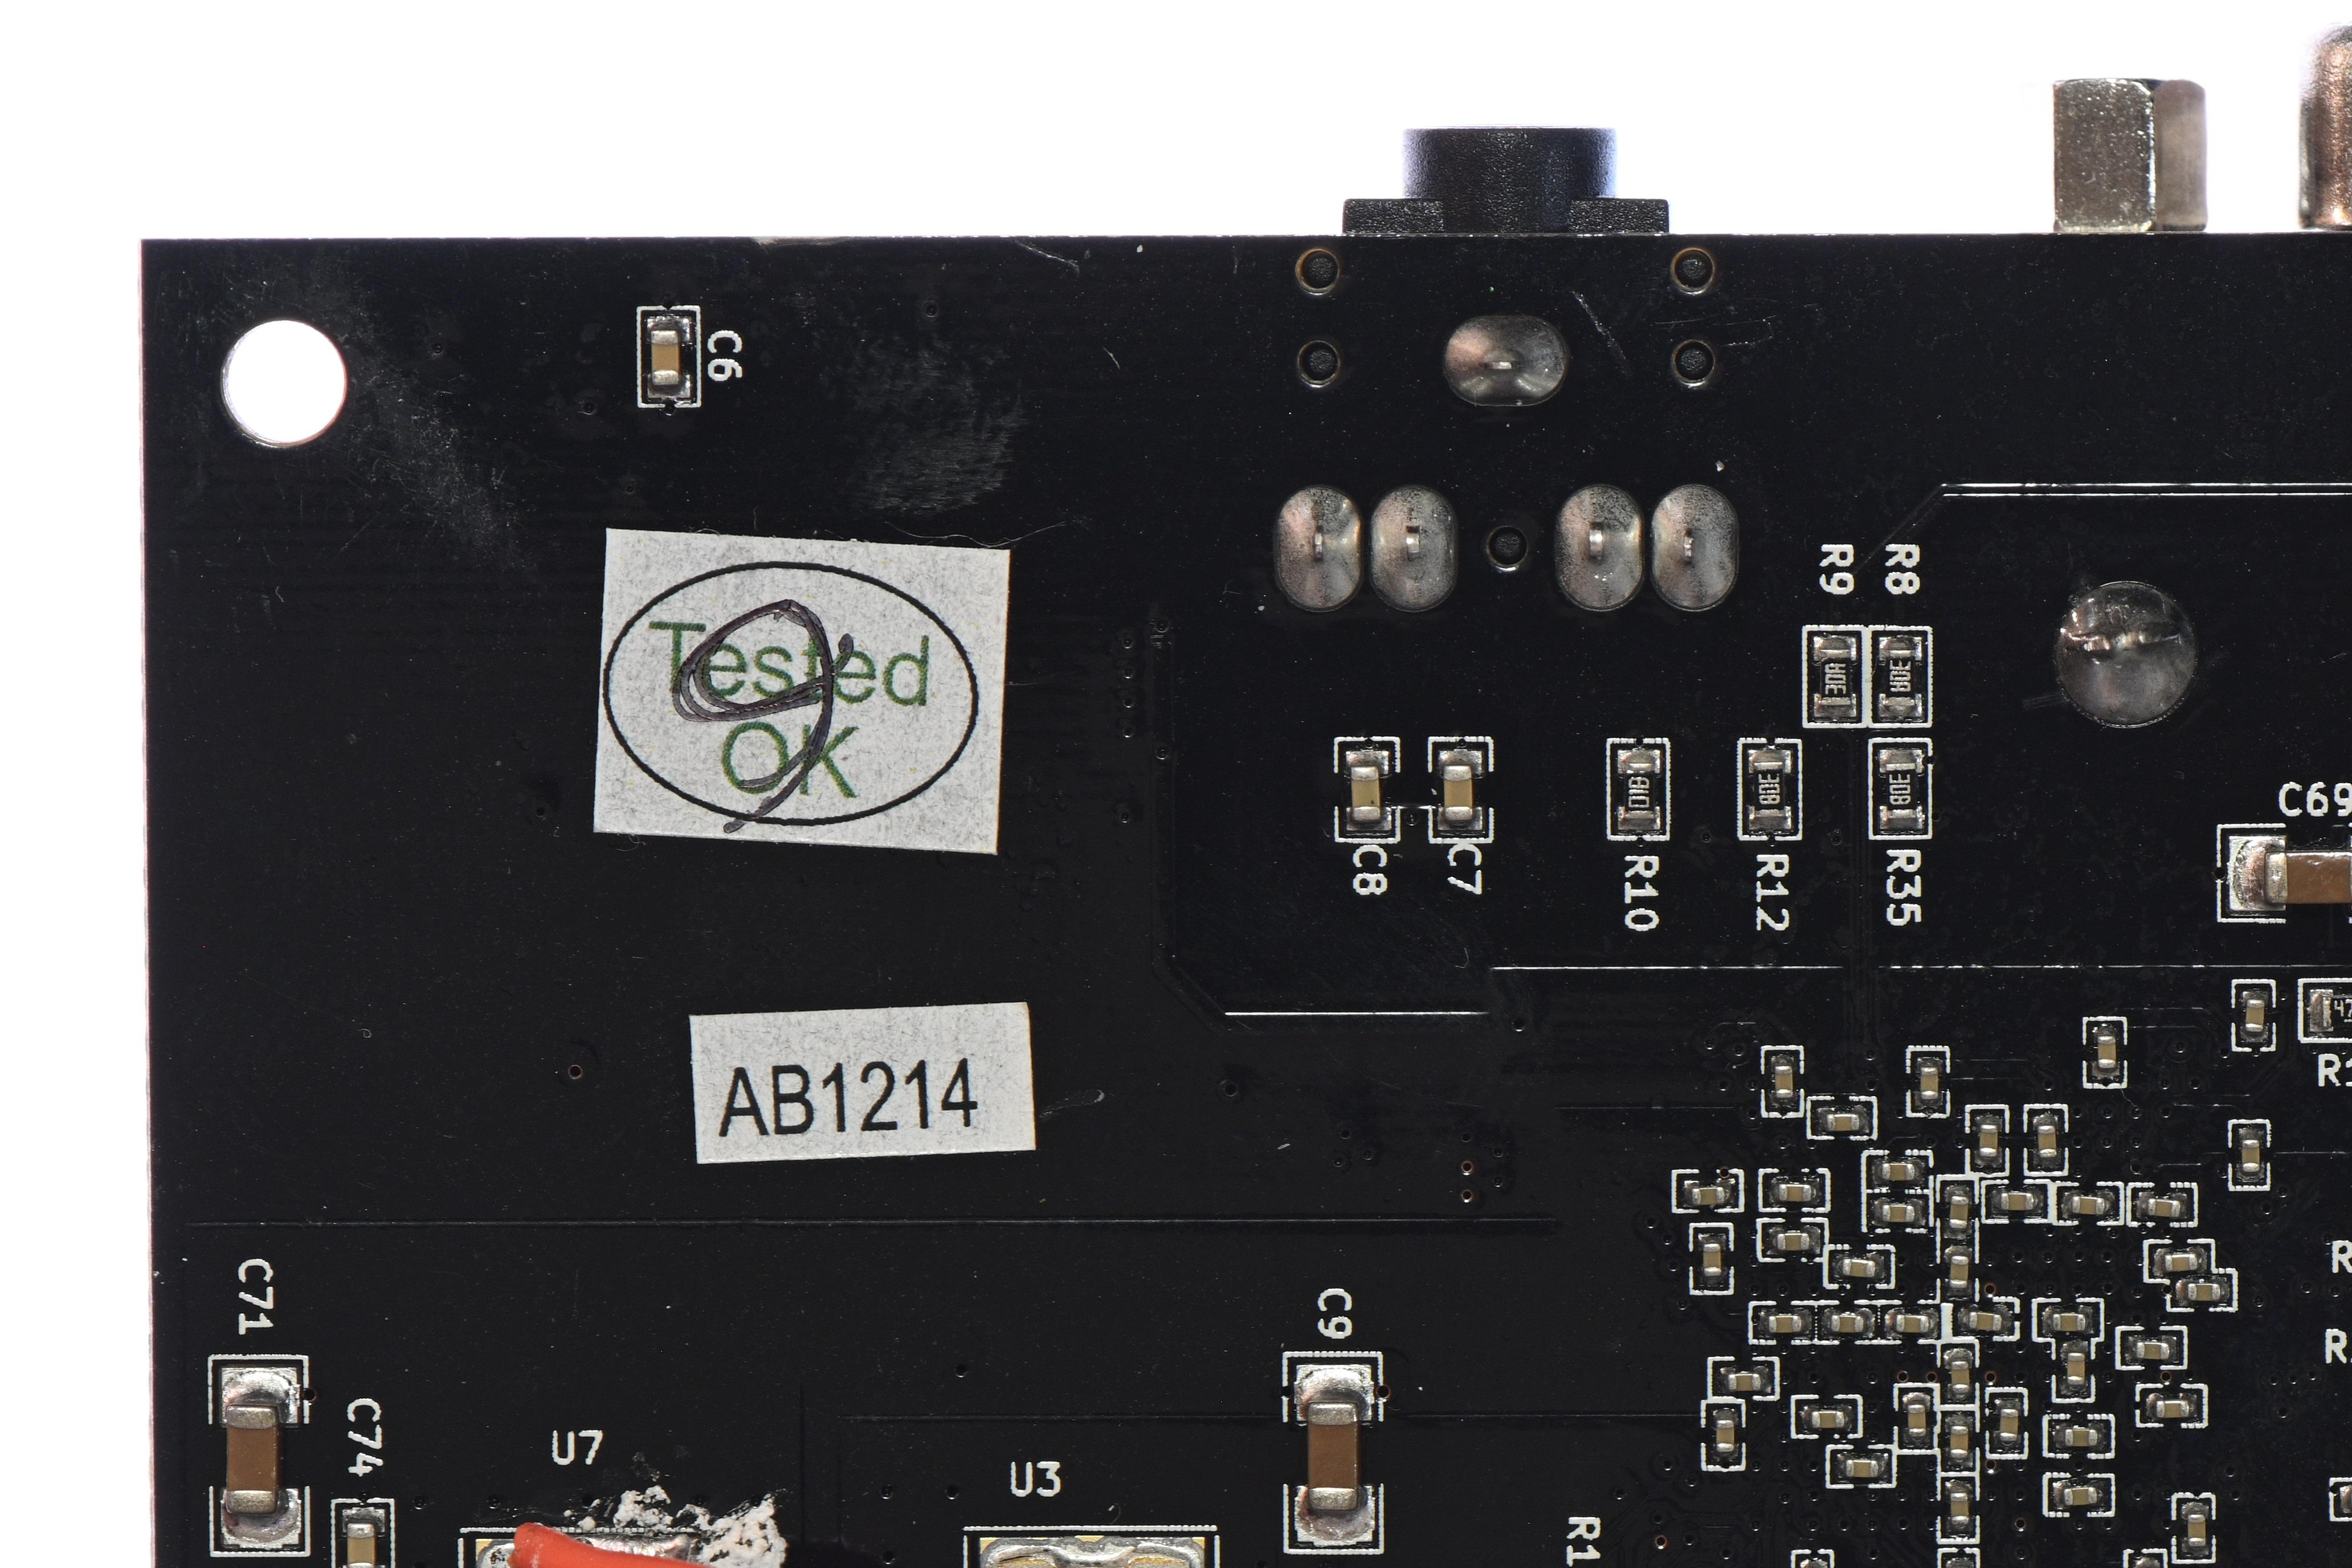capacitors: (222, 1402, 280, 1517), (1302, 1398, 1360, 1514), (2261, 847, 2352, 910), (1438, 761, 1477, 824), (1346, 761, 1384, 824), (648, 326, 684, 390), (343, 1517, 380, 1568), (2184, 1509, 2210, 1551), (1916, 1062, 1943, 1103), (2093, 1031, 2119, 1071), (2242, 996, 2268, 1036), (2237, 1136, 2263, 1176), (1974, 1120, 2000, 1160), (1699, 1239, 1725, 1279), (1713, 1414, 1739, 1454), (1904, 1400, 1930, 1440), (2063, 1347, 2090, 1388), (1946, 1489, 1972, 1529), (1841, 1456, 1881, 1482), (1824, 1110, 1864, 1136), (1689, 1183, 1729, 1209), (1773, 1229, 1813, 1255), (2144, 1193, 2184, 1220), (2161, 1249, 2201, 1276), (2184, 1279, 2224, 1305), (2132, 1337, 2172, 1363), (2061, 1425, 2102, 1451), (2049, 1309, 2090, 1335), (1965, 1309, 2006, 1335), (1827, 1311, 1867, 1337), (2152, 1396, 2193, 1423), (1878, 1200, 1920, 1225), (1876, 1159, 1918, 1183), (1806, 1407, 1848, 1431), (1771, 1062, 1796, 1103), (2033, 1120, 2058, 1160), (1946, 1190, 1971, 1230), (1946, 1251, 1971, 1291), (1948, 1358, 1972, 1398), (1946, 1421, 1971, 1461), (1997, 1403, 2021, 1444), (1775, 1180, 1815, 1204), (1839, 1255, 1879, 1279), (1997, 1188, 2037, 1213), (2067, 1192, 2107, 1216), (2060, 1482, 2100, 1507), (1894, 1311, 1934, 1335), (1764, 1311, 1804, 1335), (1724, 1370, 1764, 1395), (2347, 1487, 2352, 1514), (1948, 1565, 1974, 1568), (2135, 1565, 2161, 1568)
resistors: (1619, 759, 1659, 823), (1750, 756, 1788, 821), (1883, 759, 1922, 823), (1879, 646, 1918, 709), (1817, 646, 1853, 709), (2317, 992, 2352, 1033)
